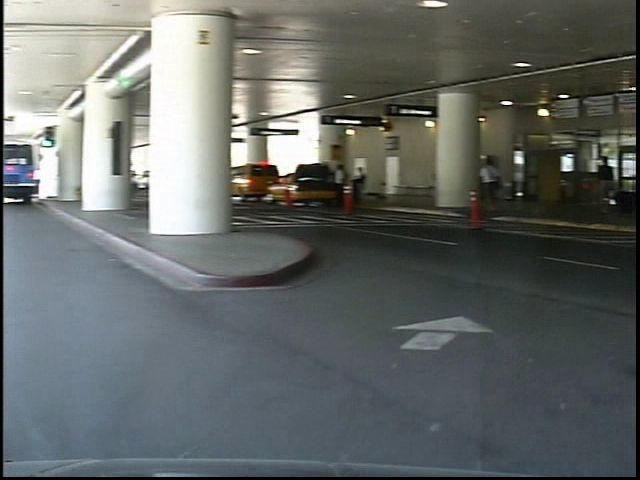person: (598, 151, 623, 217), (484, 152, 511, 213)
